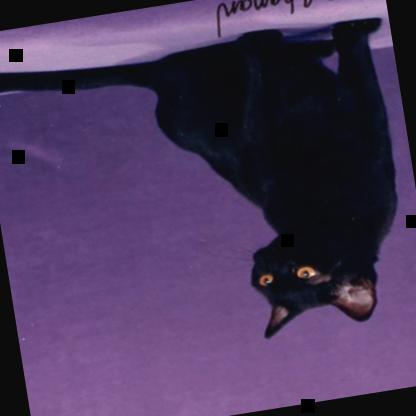cat: (0, 7, 415, 378)
